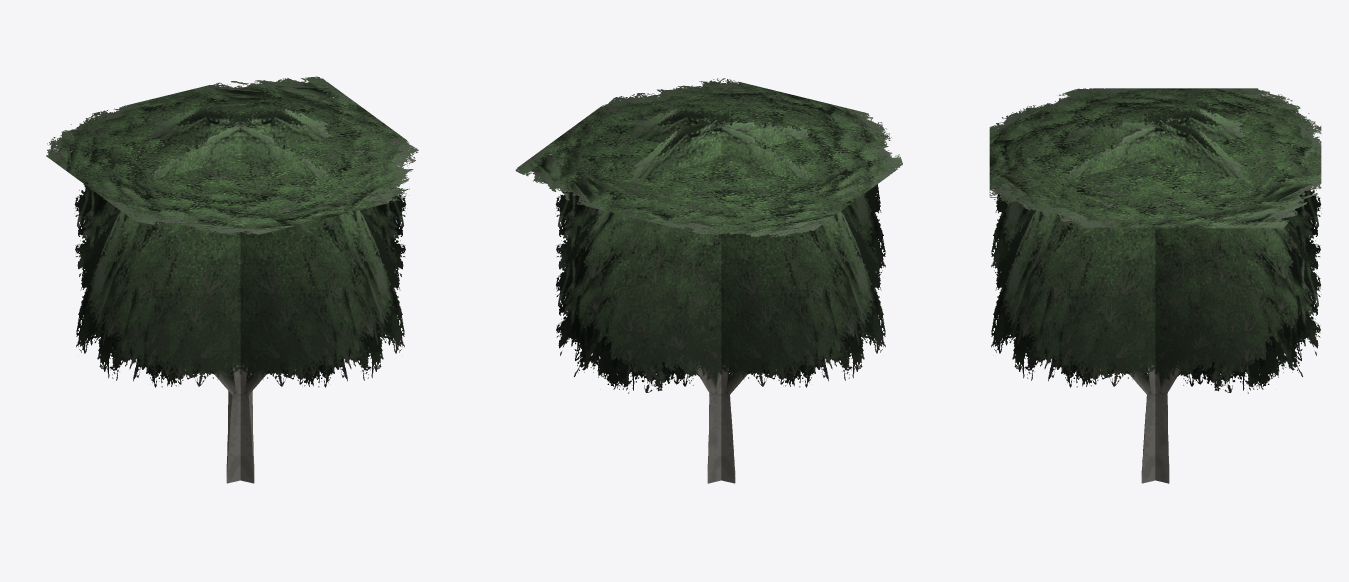
File: tree_ficus_lod1.glb
The picture shows the model from 3 angles, left to right: view 1: azimuth 30°, elevation 25°; view 2: azimuth 150°, elevation 25°; view 3: azimuth 270°, elevation 25°; orthographic projection.
Parts seen in each view (by area): view 1: tree_ficus_lod1; view 2: tree_ficus_lod1; view 3: tree_ficus_lod1.
Boxes of the visible parts, x1,y1,x2,y2 form: tree_ficus_lod1: [46, 76, 418, 483]; tree_ficus_lod1: [515, 78, 902, 483]; tree_ficus_lod1: [989, 88, 1321, 483].
Bounding box in the file's own units: 8.99 × 9.07 × 7.79.
1 material, 1 textured.
